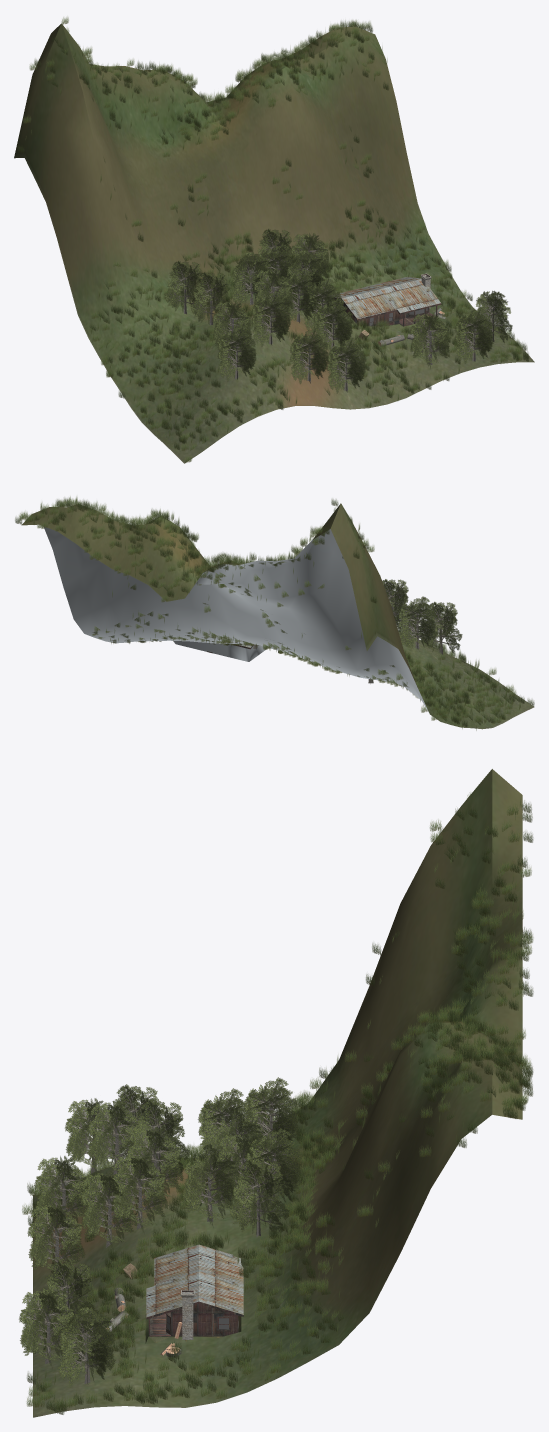
Rendered from shed.glb.
The picture shows the model from 3 angles, top to bottom: view 1: azimuth 30°, elevation 25°; view 2: azimuth 150°, elevation 25°; view 3: azimuth 270°, elevation 25°; orthographic projection. The views are drawn at different scales.
Parts seen in each view (by area): view 1: Material2 (×6), Material3; view 2: Material2 (×3), Material3; view 3: Material2 (×5), Material3.
Boxes of the visible parts, bbox=[...] form: Material2 (×6): bbox=[14, 17, 534, 463]; Material3: bbox=[332, 276, 440, 319]; Material2 (×3): bbox=[15, 496, 534, 730]; Material3: bbox=[44, 527, 428, 712]; Material2 (×5): bbox=[19, 769, 533, 1417]; Material3: bbox=[146, 1244, 243, 1317].
Bounding box in the file's own units: 2585 × 2169 × 2225.
55 materials, 52 textured.
